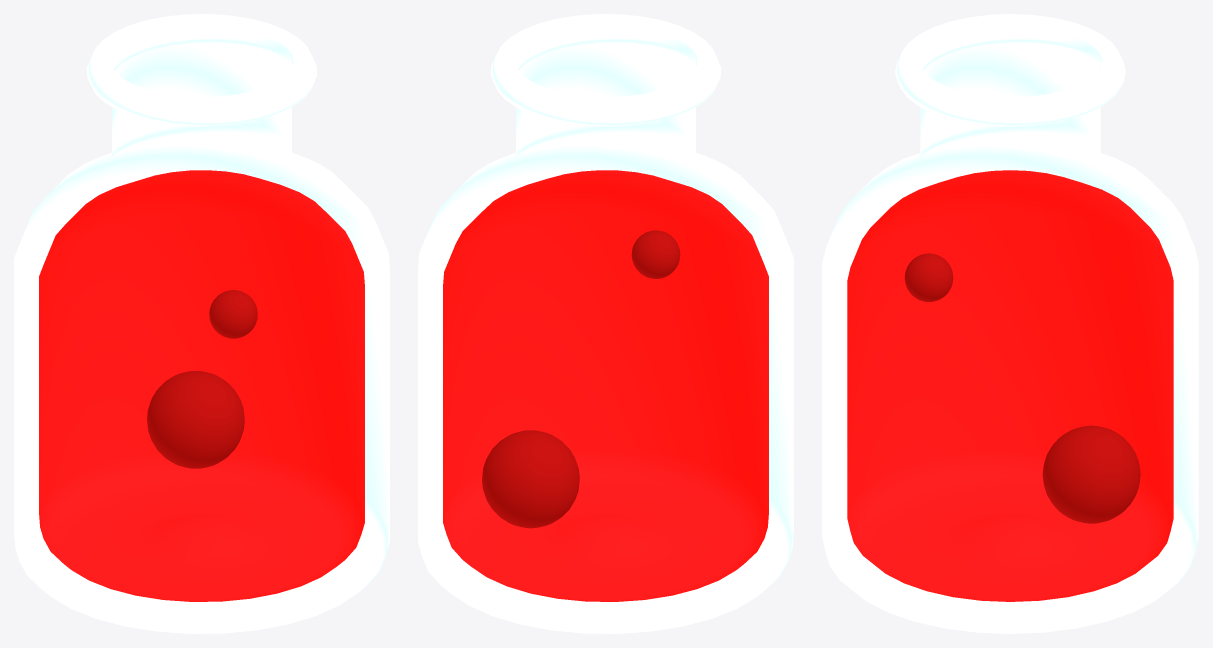
File: potion.glb
3 views of the same model, side by side, from view 1: azimuth 30°, elevation 25°; view 2: azimuth 150°, elevation 25°; view 3: azimuth 270°, elevation 25° (orthographic).
Parts seen in each view (by area): view 1: inside, potion, bubble big, bubble small; view 2: inside, potion, bubble big, bubble small; view 3: inside, potion, bubble big, bubble small.
Boxes of the visible parts, x1,y1,x2,y2 form: inside: [39, 170, 364, 601]; potion: [14, 14, 389, 633]; bubble big: [147, 371, 244, 468]; bubble small: [209, 290, 257, 338]; inside: [443, 170, 768, 601]; potion: [418, 14, 793, 633]; bubble big: [482, 430, 579, 528]; bubble small: [631, 230, 680, 278]; inside: [847, 170, 1173, 601]; potion: [822, 14, 1198, 633]; bubble big: [1042, 425, 1140, 523]; bubble small: [904, 253, 953, 301].
Bounding box in the file's own units: 2 × 2.98 × 2.
